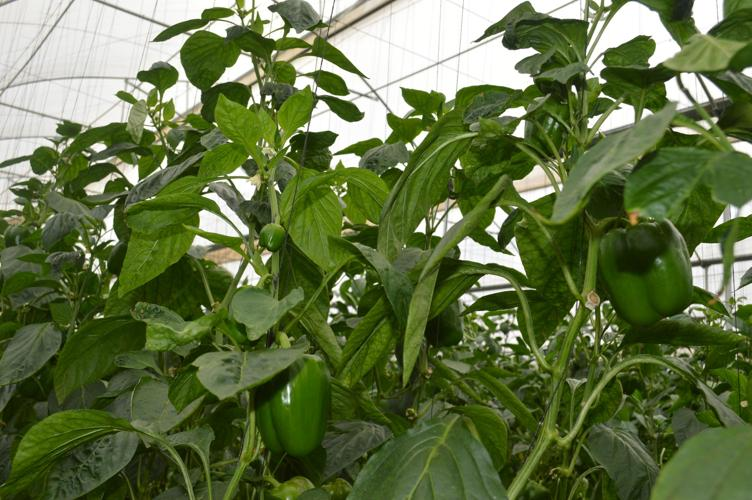BellPepper: (589, 217, 703, 333), (241, 358, 339, 459), (259, 226, 289, 252)
